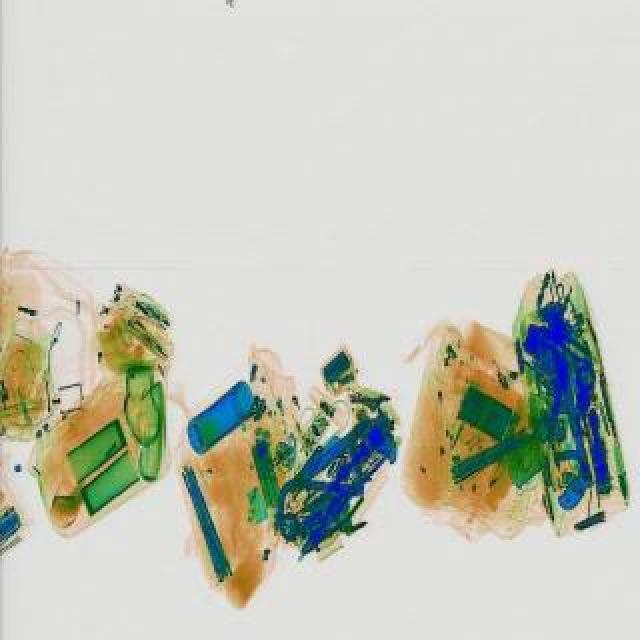wrench: (290, 484, 366, 560), (532, 318, 600, 368)
